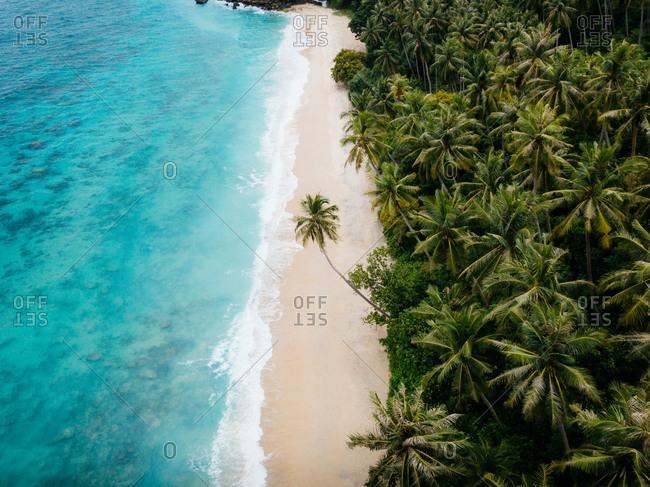coconut_tree: (496, 314, 609, 435), (417, 191, 485, 267), (402, 118, 481, 173), (289, 193, 350, 257), (508, 108, 567, 167), (335, 116, 402, 162)
